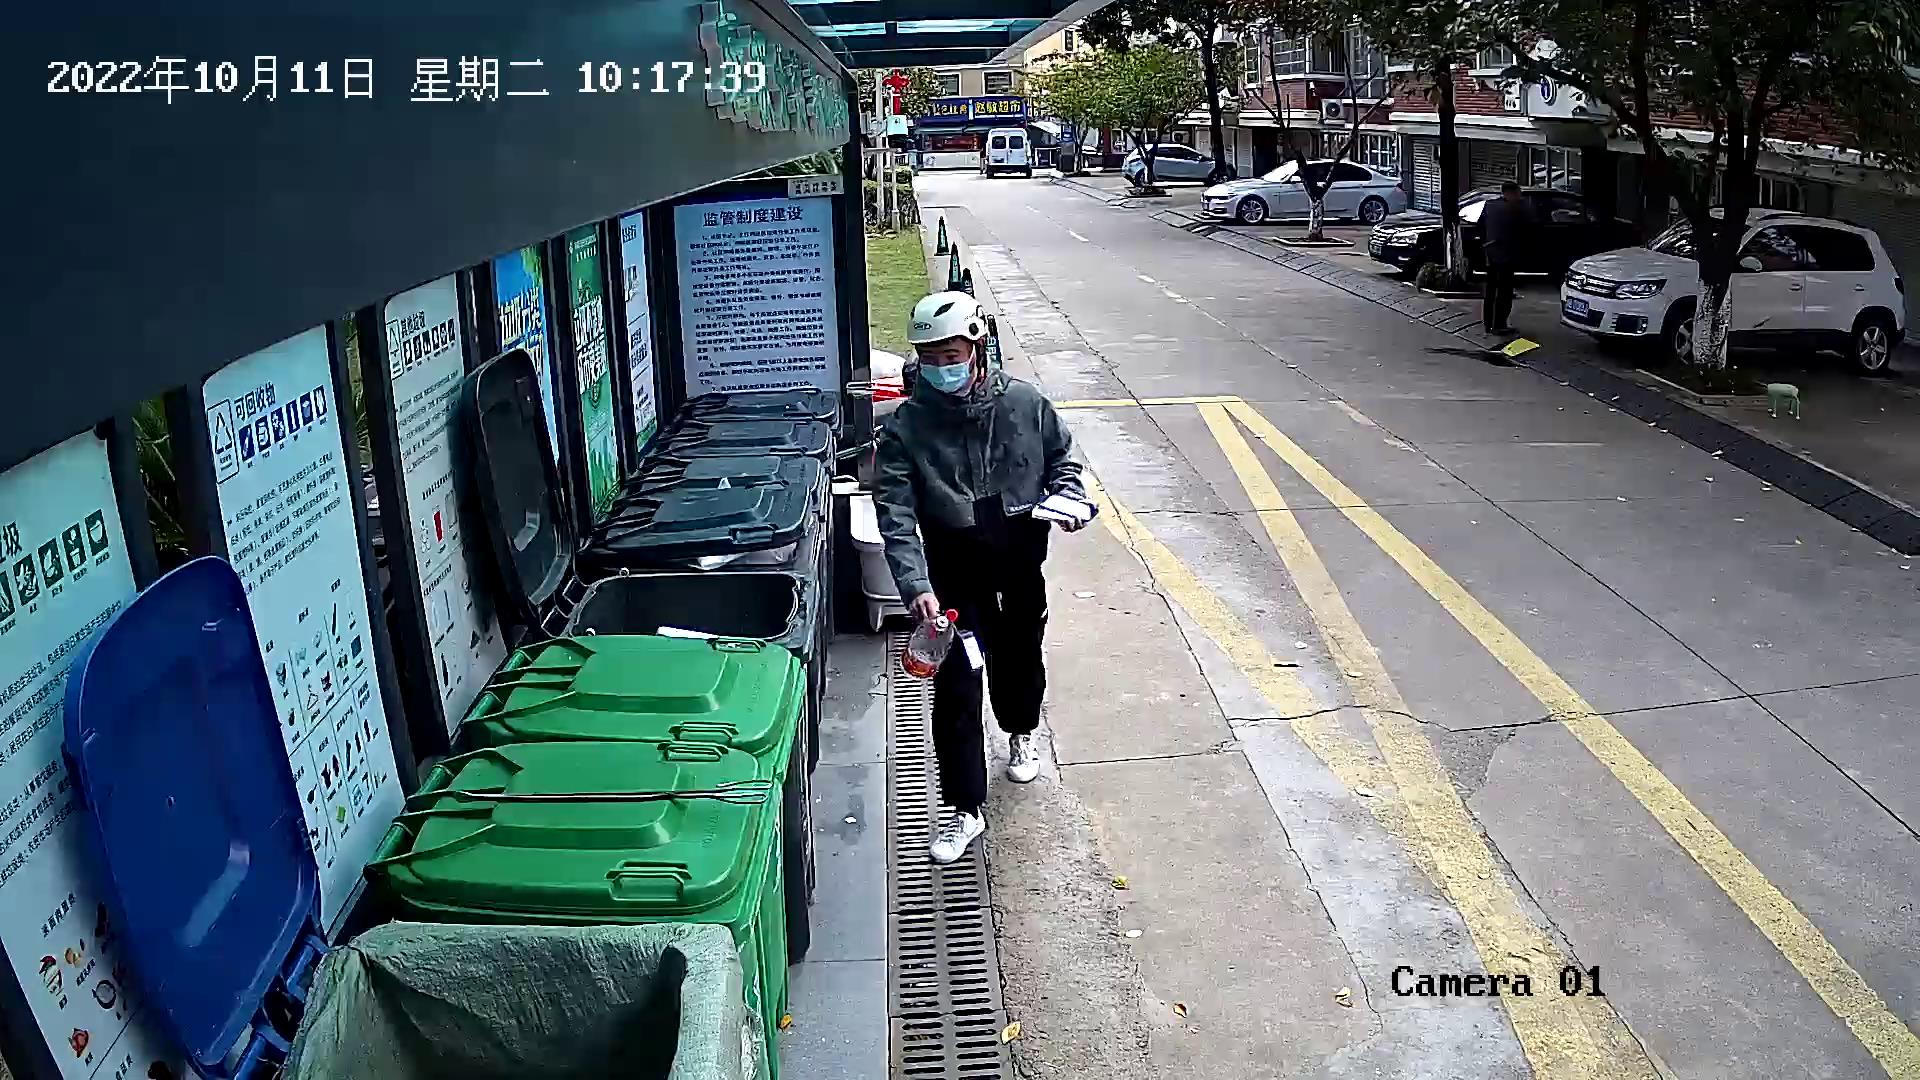person: (864, 282, 1107, 871)
suliaozhipin: (891, 602, 961, 686)
